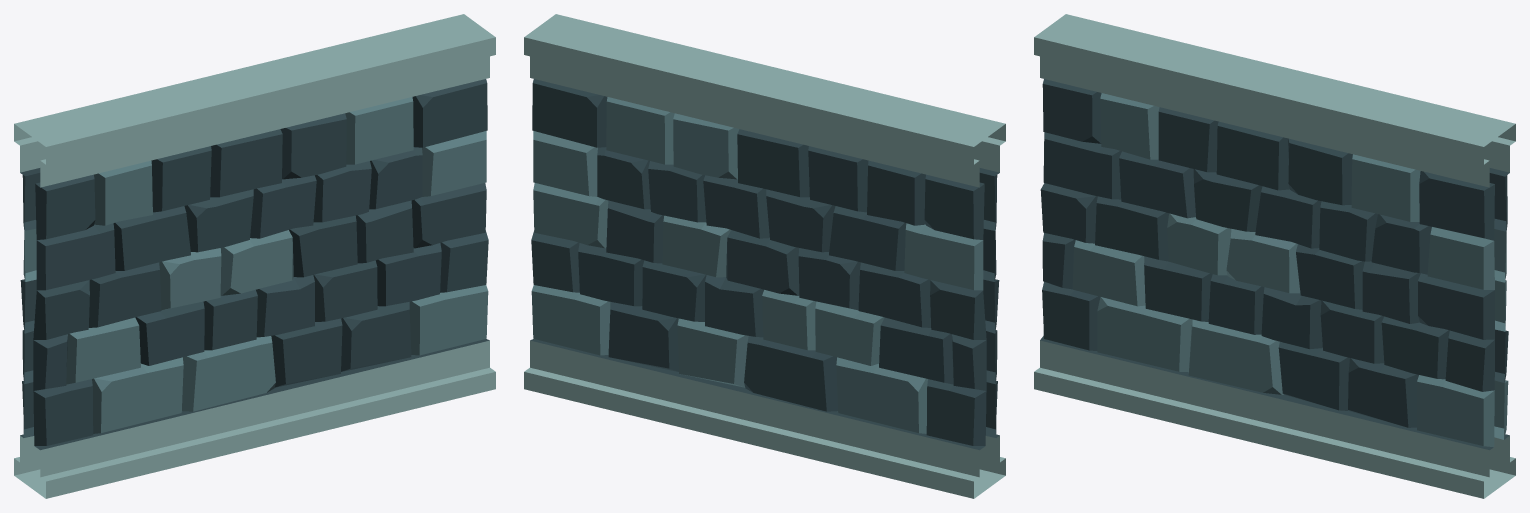
File: wall 1.glb
3 renders of one model, left to right at view 1: azimuth 30°, elevation 25°; view 2: azimuth 150°, elevation 25°; view 3: azimuth 330°, elevation 25°, orthographic.
Parts seen in each view (by area): view 1: wall 1; view 2: wall 1; view 3: wall 1.
Part boxes in pixels (x1,y1,x2,y2): wall 1: (14, 14, 495, 498); wall 1: (524, 14, 1005, 498); wall 1: (1034, 14, 1515, 498).
Bounding box in the file's own units: 4.01 × 2.99 × 0.4896.
1 material, 1 textured.
